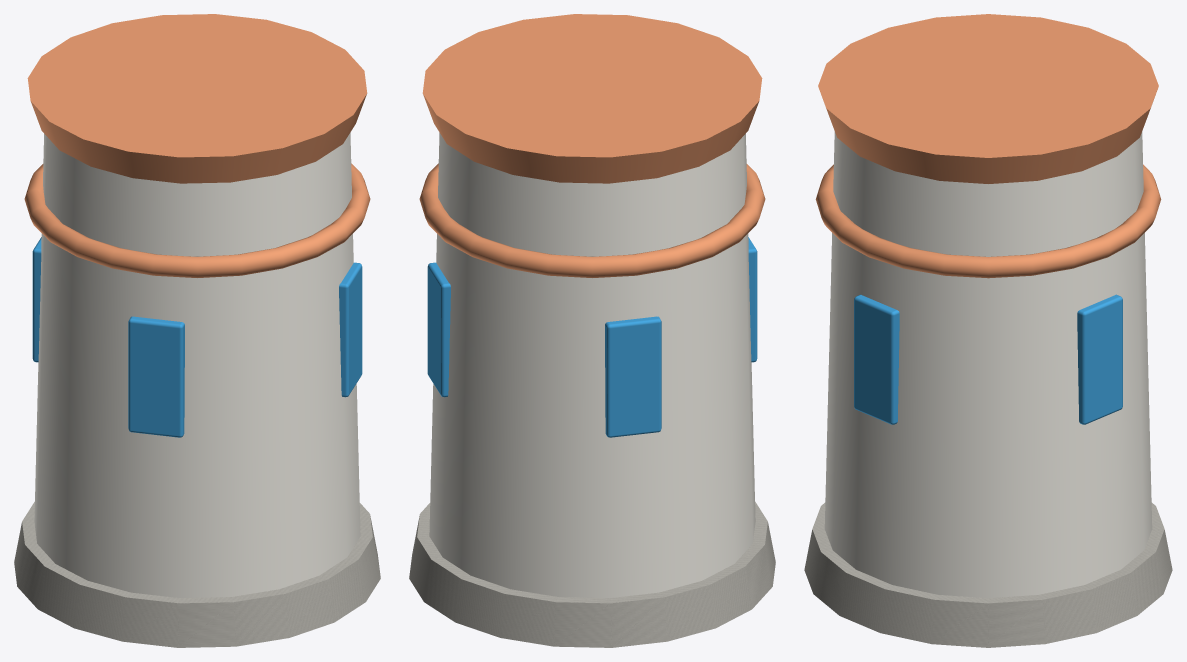
The model's file is hero-shooter-harbour-payload-corner-tower-segment-8f3e4a31__27695.glb.
3 renders of one model, left to right at view 1: azimuth 30°, elevation 25°; view 2: azimuth 150°, elevation 25°; view 3: azimuth 270°, elevation 25°, orthographic.
Visible parts, largest first — view 1: corner-tower-segment; view 2: corner-tower-segment; view 3: corner-tower-segment.
Part boxes in pixels (bbox=[...]): corner-tower-segment: bbox=[14, 14, 380, 647]; corner-tower-segment: bbox=[409, 14, 775, 647]; corner-tower-segment: bbox=[804, 14, 1172, 647].
Size of the model in its own units: 3.24 by 4.7 by 3.24.
Materials: 4 (1 with a texture image).
